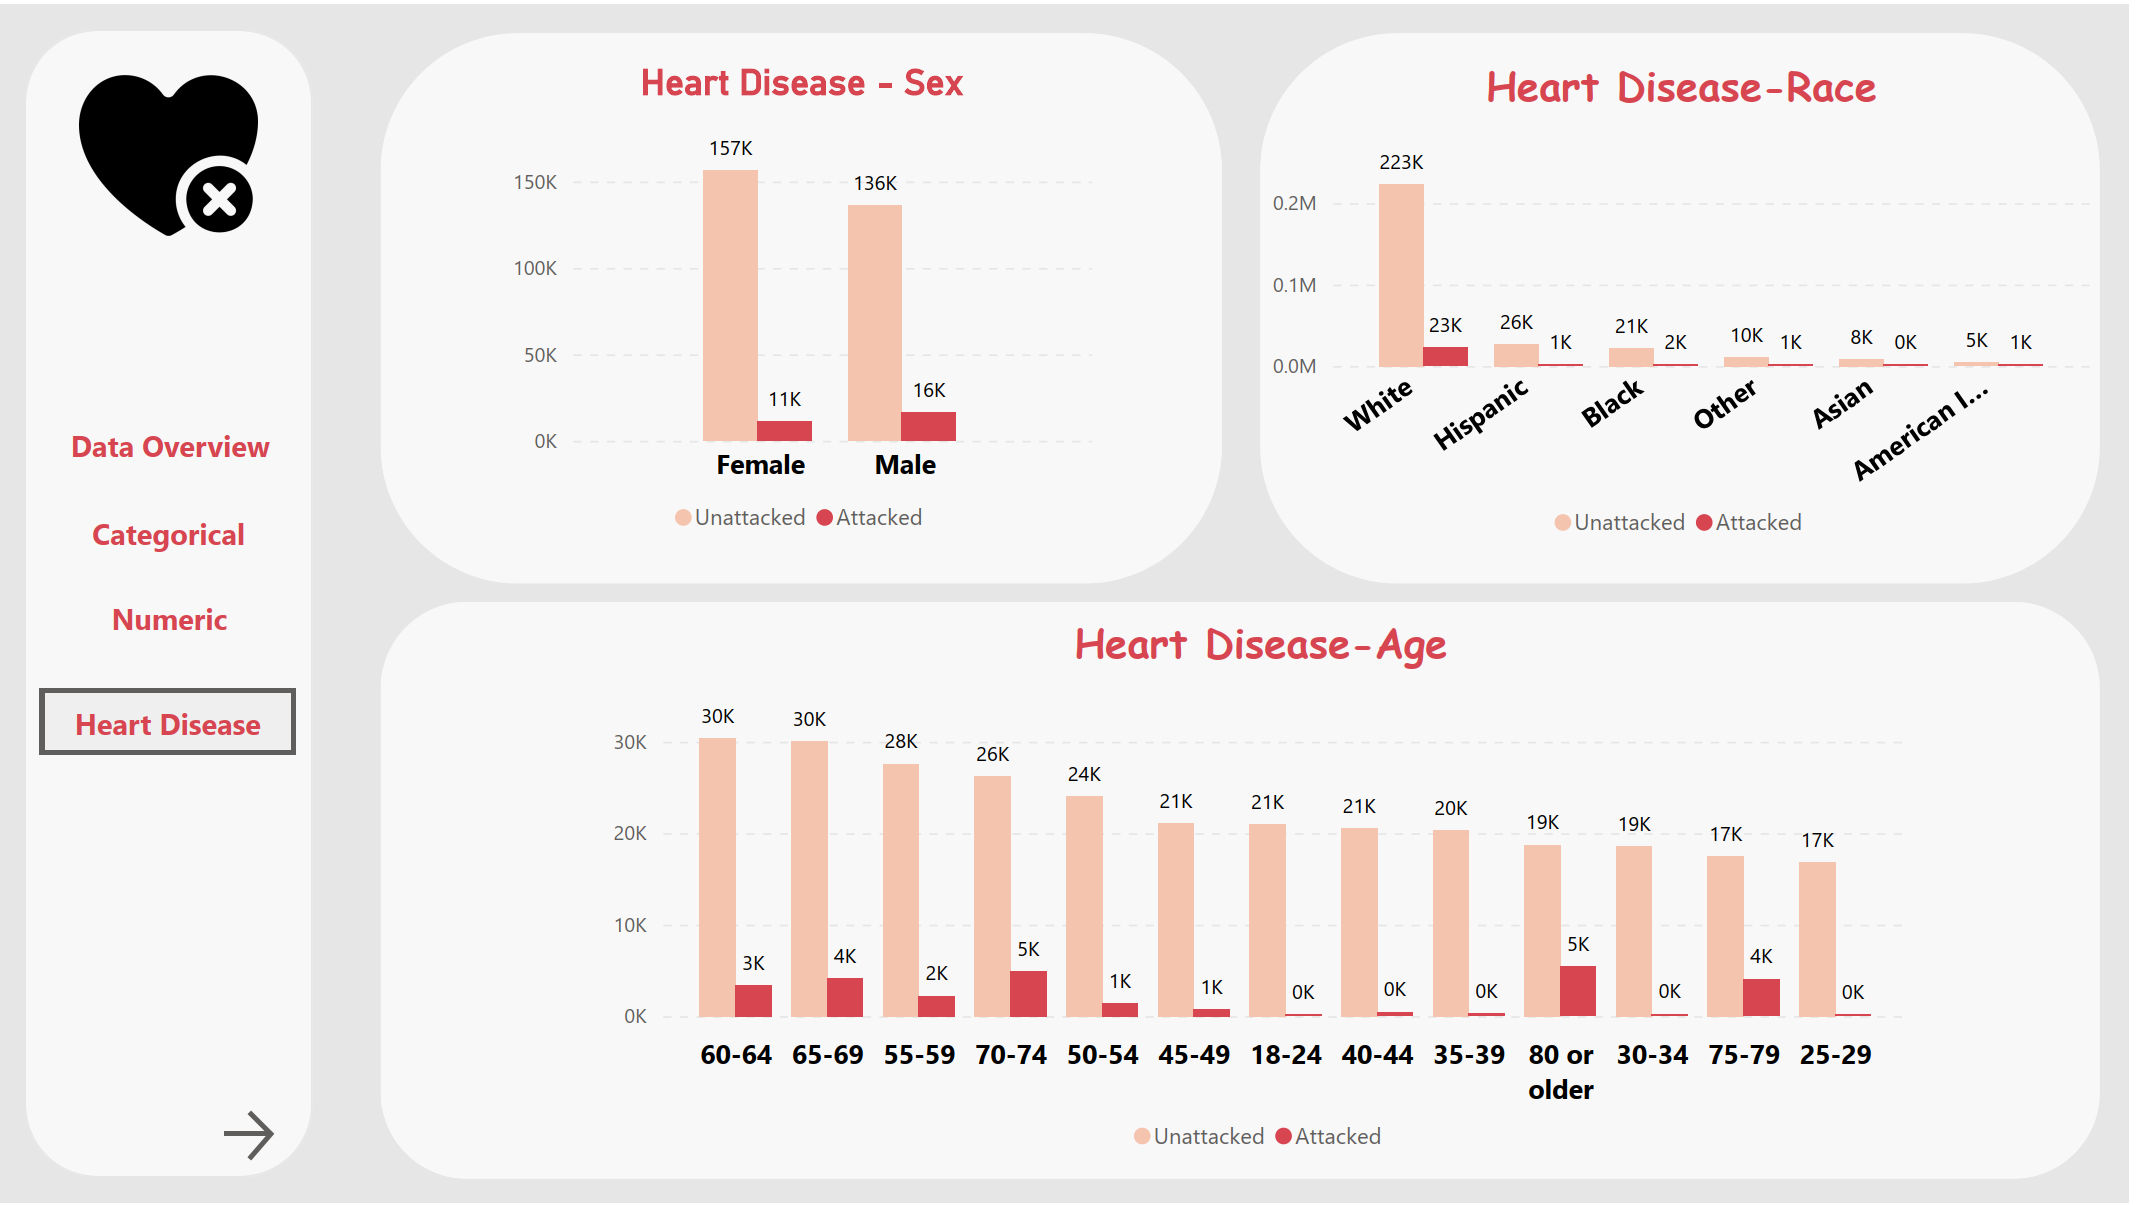

The dashboard page shown, as its layout file describes it:
{"tool":"powerbi","page":{"name":"Page 3","canvas":[1280,720],"ordinal":2},"visuals":[{"type":"shape","box":[14.6,14.6,173.4,690.2],"z":0},{"type":"shape","box":[229.3,359.2,1034.2,346.4],"z":1000},{"type":"image","box":[42.9,31.4,117.1,118.6],"z":2000},{"type":"clusteredColumnChart","title":"Heart Disease-Age","fields":{"Category":["heart_2020_uncleaned.AgeCategory"],"Y":["heart_2020_uncleaned.Total Unattacked","heart_2020_uncleaned.Total Attacked"]},"box":[364.3,366.8,788.4,332.4],"z":3000},{"type":"shape","box":[757.8,16.6,505.6,331.1],"z":4000},{"type":"clusteredColumnChart","title":"Heart Disease-Race","fields":{"Category":["heart_2020_uncleaned.Race"],"Y":["heart_2020_uncleaned.Total Unattacked","heart_2020_uncleaned.Total Attacked"]},"box":[760.4,31.8,503.1,298],"z":5000},{"type":"shape","box":[229.3,16.6,505.6,331.1],"z":6000},{"type":"clusteredColumnChart","title":"Heart Disease - Sex","fields":{"Category":["heart_2020_uncleaned.Sex"],"Y":["heart_2020_uncleaned.Total Unattacked","heart_2020_uncleaned.Total Attacked"]},"box":[303.1,34.4,359.2,292.9],"z":7000},{"type":"actionButton","box":[25.5,243.5,154.3,40.8],"z":8000},{"type":"actionButton","box":[24.2,410.5,154.3,40.8],"z":9000},{"type":"actionButton","box":[25.5,299.6,153,35.7],"z":10000},{"type":"actionButton","box":[24.2,348,155.5,40.8],"z":11000},{"type":"actionButton","box":[128.8,660.4,99.4,39.5],"z":12000}]}

Visuals, with their boxes in screenshot pixels (x1, y1, x2, y2), scaled from the page's 1280x720 canvas onto the 2138x1206 screenshot:
shape: {"left": 24, "top": 24, "right": 314, "bottom": 1181}
shape: {"left": 383, "top": 602, "right": 2110, "bottom": 1182}
image: {"left": 72, "top": 53, "right": 267, "bottom": 251}
"Heart Disease-Age" clusteredColumnChart: {"left": 608, "top": 614, "right": 1925, "bottom": 1171}
shape: {"left": 1266, "top": 28, "right": 2110, "bottom": 582}
"Heart Disease-Race" clusteredColumnChart: {"left": 1270, "top": 53, "right": 2110, "bottom": 552}
shape: {"left": 383, "top": 28, "right": 1228, "bottom": 582}
"Heart Disease - Sex" clusteredColumnChart: {"left": 506, "top": 58, "right": 1106, "bottom": 548}
actionButton: {"left": 43, "top": 408, "right": 300, "bottom": 476}
actionButton: {"left": 40, "top": 688, "right": 298, "bottom": 756}
actionButton: {"left": 43, "top": 502, "right": 298, "bottom": 562}
actionButton: {"left": 40, "top": 583, "right": 300, "bottom": 651}
actionButton: {"left": 215, "top": 1106, "right": 381, "bottom": 1172}
